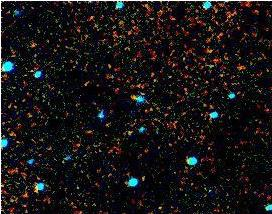star: (120, 83, 150, 113)
